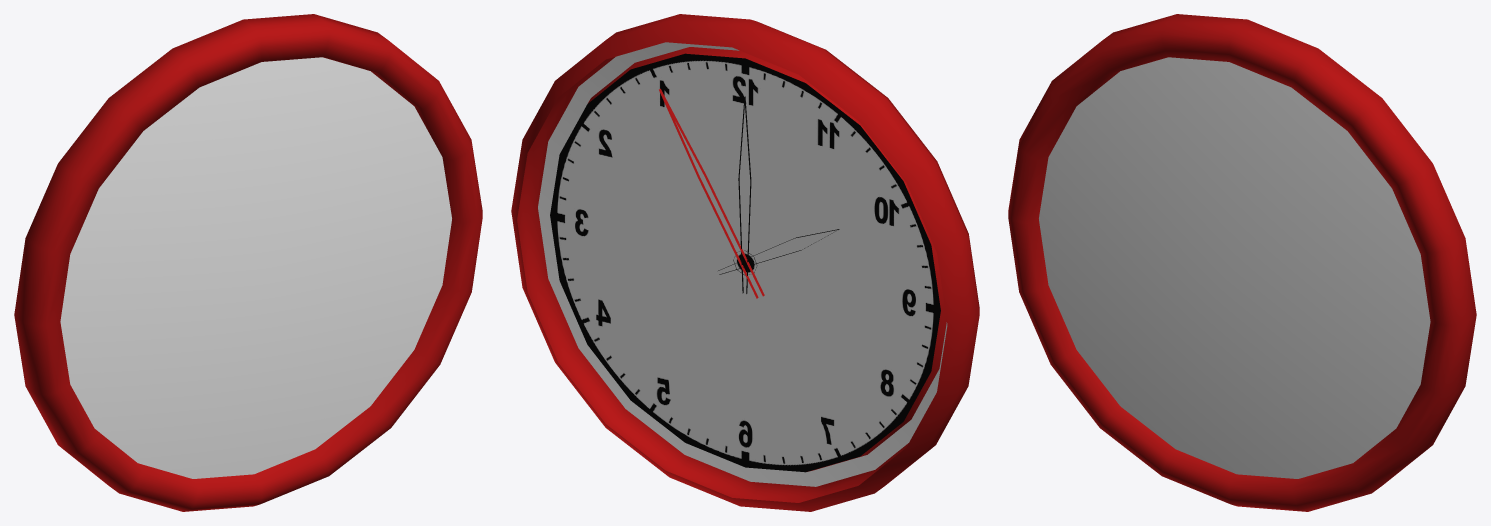
File: kzh_tokei.fbx
The picture shows the model from 3 angles, left to right: view 1: azimuth 30°, elevation 25°; view 2: azimuth 150°, elevation 25°; view 3: azimuth 330°, elevation 25°; orthographic projection.
Parts seen in each view (by area): view 1: ClockGlass, Clockcase; view 2: Clockbase, Clockcase, ClockGlass, Seconds, Minute; view 3: ClockGlass, Clockcase.
Boxes of the visible parts, x1,y1,x2,y2 form: ClockGlass: [60, 57, 451, 478]; Clockcase: [14, 14, 482, 511]; Clockbase: [550, 53, 940, 472]; Clockcase: [511, 14, 979, 511]; ClockGlass: [538, 42, 947, 486]; Seconds: [659, 88, 764, 298]; Minute: [738, 96, 751, 293]; ClockGlass: [1039, 57, 1430, 478]; Clockcase: [1008, 14, 1476, 511].
Size of the model in its own units: 48 by 48 by 5.61.
4 materials, 1 textured.
